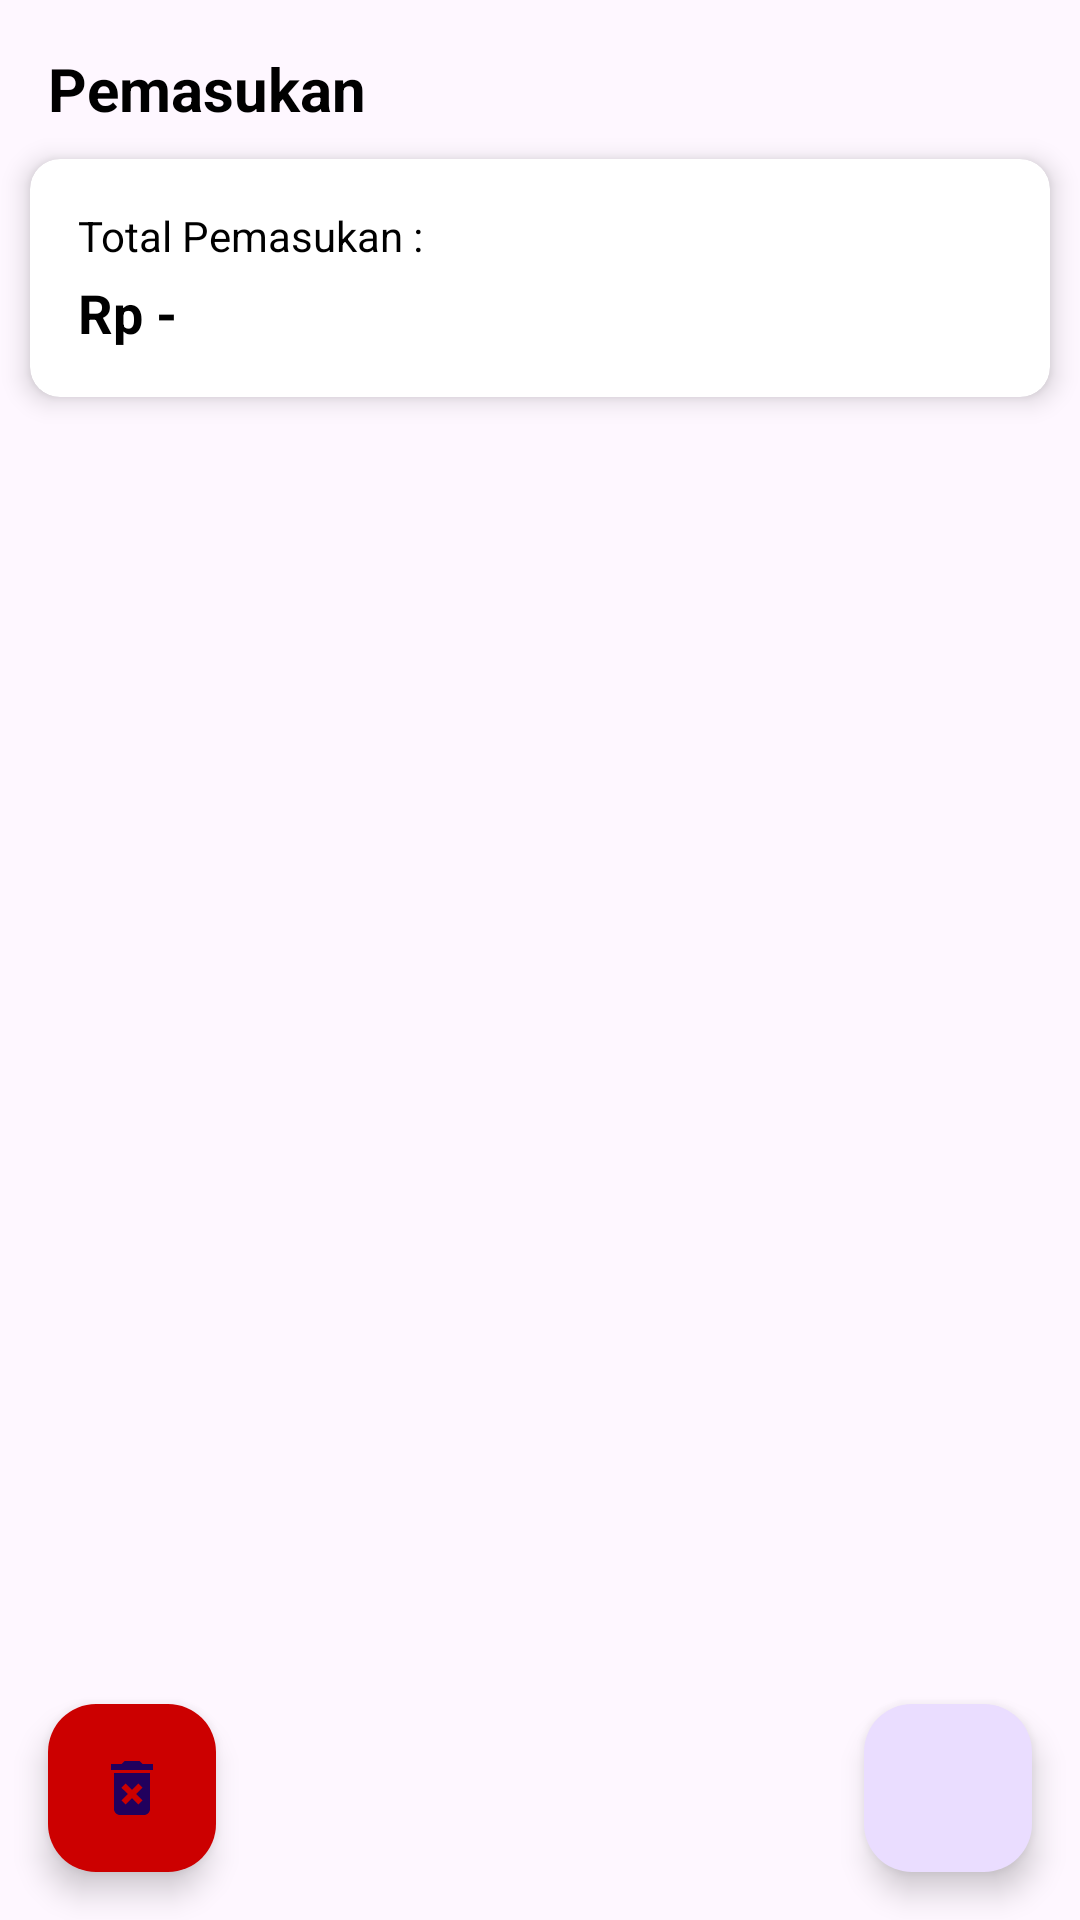

Where to tap for icons on this 1080 × 1920 app screen, as (x=x, y=y):
delete: (x=132, y=1788)
